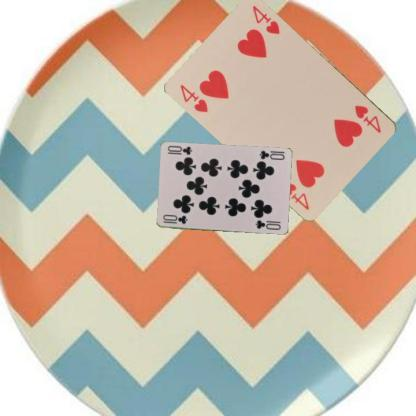10c: (256, 148, 286, 161), (160, 212, 188, 225)
4h: (177, 81, 210, 114), (352, 102, 382, 134)
